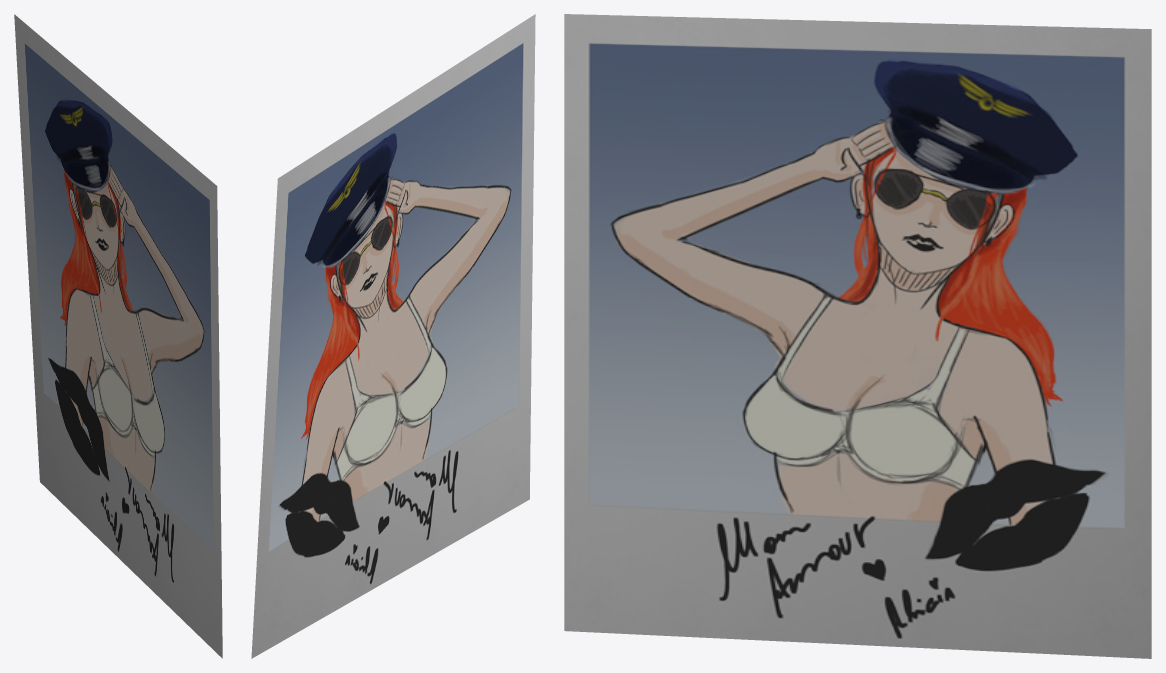
Rendered from Foto_1.fbx.
The picture shows the model from 3 angles, left to right: view 1: azimuth 30°, elevation 25°; view 2: azimuth 150°, elevation 25°; view 3: azimuth 270°, elevation 25°; orthographic projection. The views are drawn at different scales.
Visible parts, largest first — view 1: pPlane1; view 2: pPlane1; view 3: pPlane1.
Part boxes in pixels (x1=…): pPlane1: x1=14, y1=14, x2=222, y2=658; pPlane1: x1=251, y1=14, x2=535, y2=658; pPlane1: x1=564, y1=14, x2=1151, y2=658.
Size of the model in its own units: 1.9 by 17.35 by 15.05.
